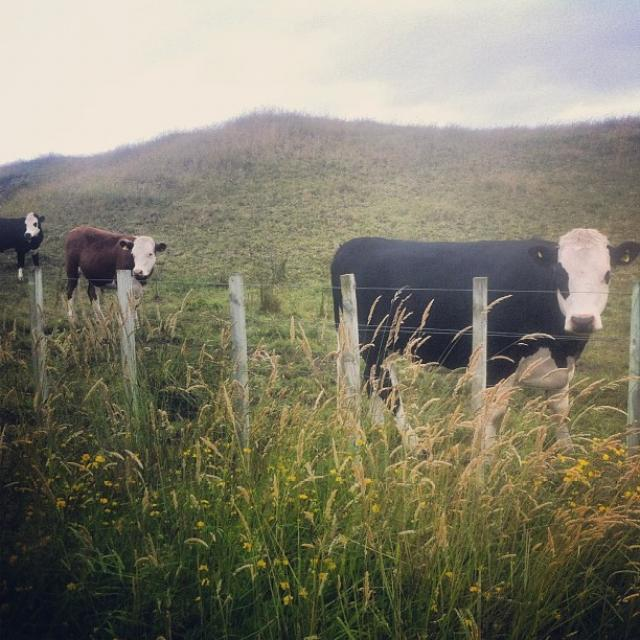cow: (330, 223, 639, 448), (59, 221, 169, 327), (0, 209, 44, 277)
